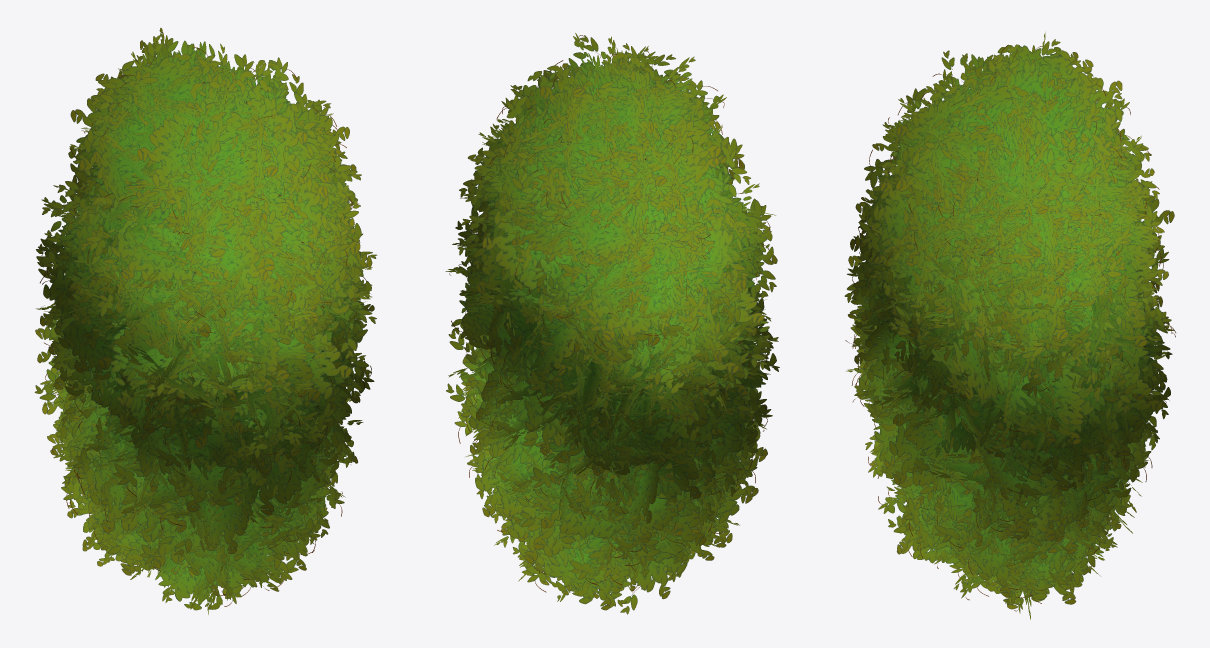
The model's file is SM_Bush03.fbx.
3 views of the same model, side by side, from view 1: azimuth 30°, elevation 25°; view 2: azimuth 150°, elevation 25°; view 3: azimuth 270°, elevation 25° (orthographic). The views are drawn at different scales.
Parts seen in each view (by area): view 1: SM_Bush03_LOD0; view 2: SM_Bush03_LOD0; view 3: SM_Bush03_LOD0.
Boxes of the visible parts, x1,y1,x2,y2 form: SM_Bush03_LOD0: [34, 28, 377, 614]; SM_Bush03_LOD0: [445, 33, 779, 614]; SM_Bush03_LOD0: [844, 32, 1175, 619].
Bounding box in the file's own units: 326 × 318 × 564.
Materials: 1 (1 with a texture image).
